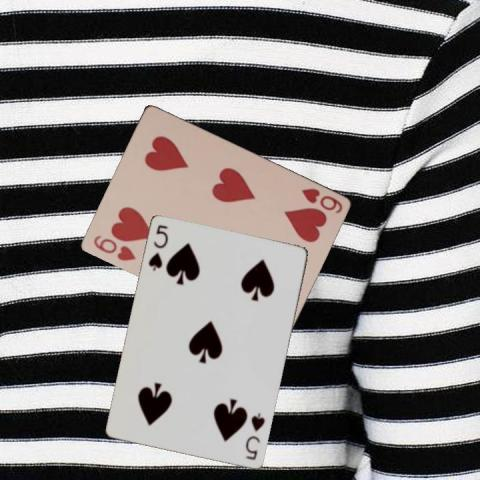5s: (145, 222, 170, 273), (242, 410, 266, 462)
6h: (90, 232, 137, 263), (298, 186, 344, 216)
